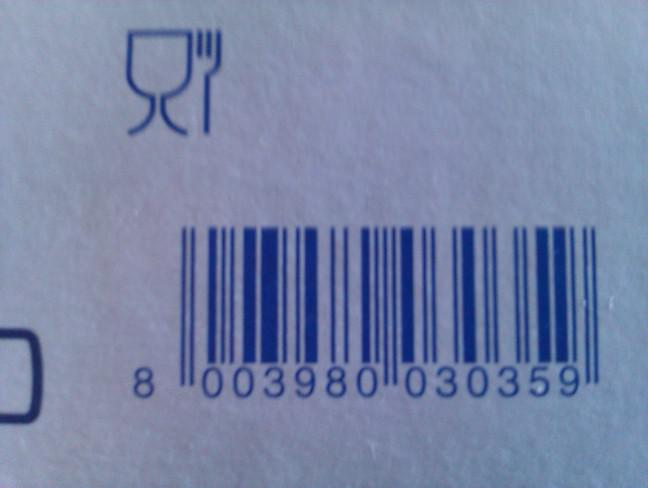Barkod: (115, 201, 614, 414)
